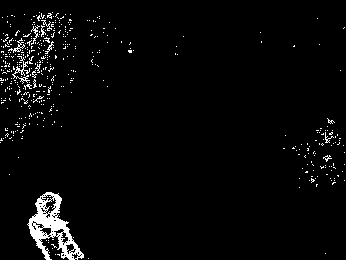person: (26, 190, 82, 260)
